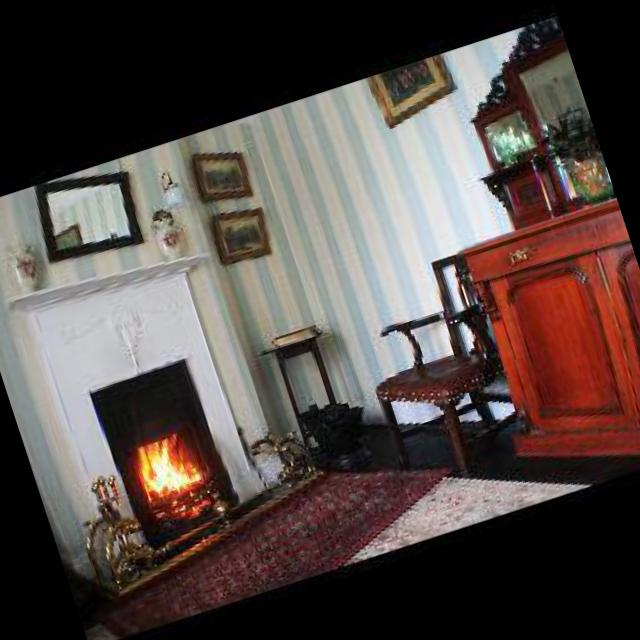fire: (122, 421, 219, 522)
